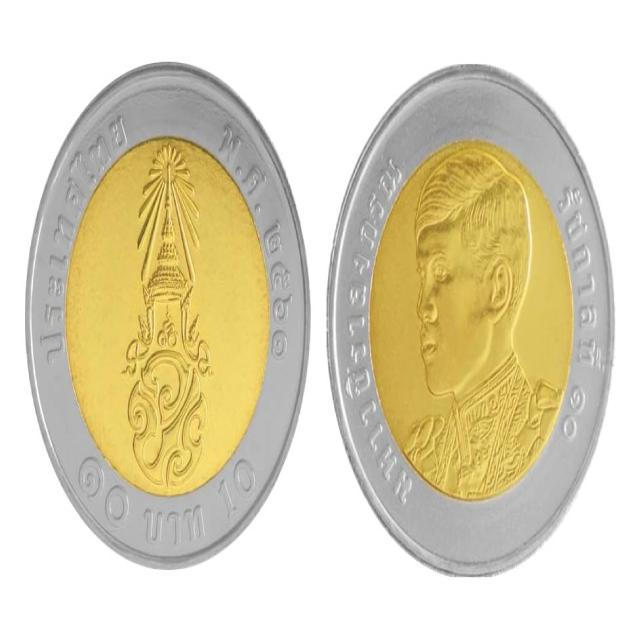10 Bath: (326, 57, 620, 581), (26, 62, 316, 575)
